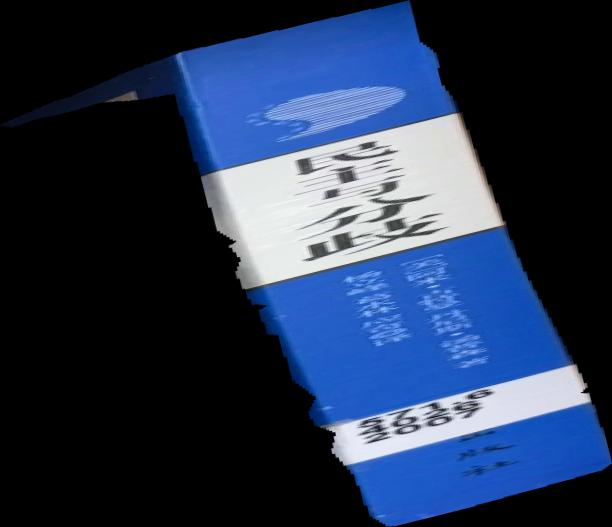book: (1, 1, 612, 527)
